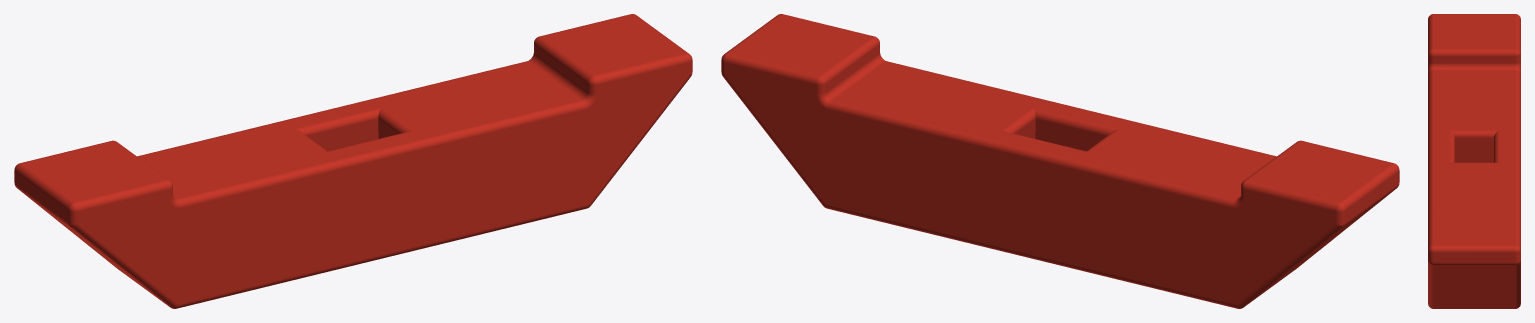
File: beam_3x_part_0.obj
3 views of the same model, side by side, from view 1: azimuth 30°, elevation 25°; view 2: azimuth 150°, elevation 25°; view 3: azimuth 270°, elevation 25° (orthographic). The views are drawn at different scales.
Parts seen in each view (by area): view 1: beam_3x_part_0; view 2: beam_3x_part_0; view 3: beam_3x_part_0.
Boxes of the visible parts, left/top/right/bottom form: beam_3x_part_0: left=14, top=14, right=692, bottom=308; beam_3x_part_0: left=721, top=14, right=1399, bottom=308; beam_3x_part_0: left=1428, top=14, right=1520, bottom=308.
Size of the model in its own units: 0.2286 by 0.0457 by 0.0381.
